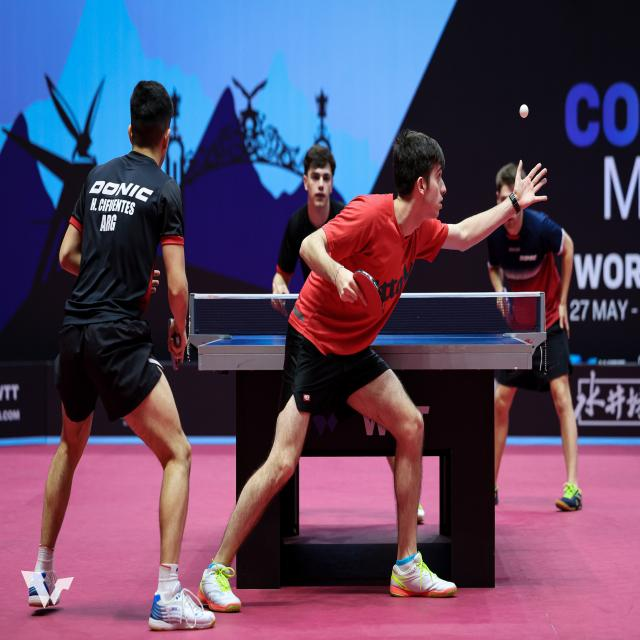TT Net: (187, 290, 546, 338)
TT Racket: (343, 262, 393, 325), (269, 292, 290, 320), (167, 336, 180, 372), (499, 285, 511, 320)
TT Table: (198, 332, 531, 347)
